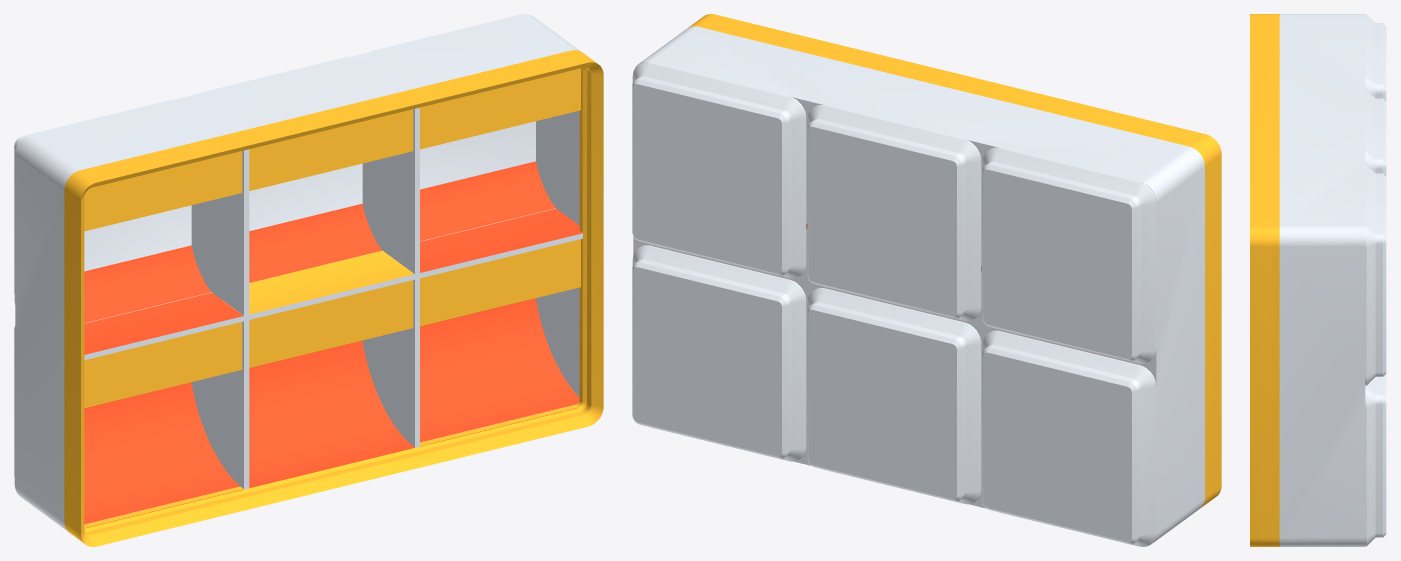
Rendered from hero-multicolor-organizer.glb.
3 renders of one model, left to right at view 1: azimuth 30°, elevation 25°; view 2: azimuth 150°, elevation 25°; view 3: azimuth 270°, elevation 25°, orthographic. The views are drawn at different scales.
Bounding box in the file's own units: 126 × 83.5 × 32.38.
